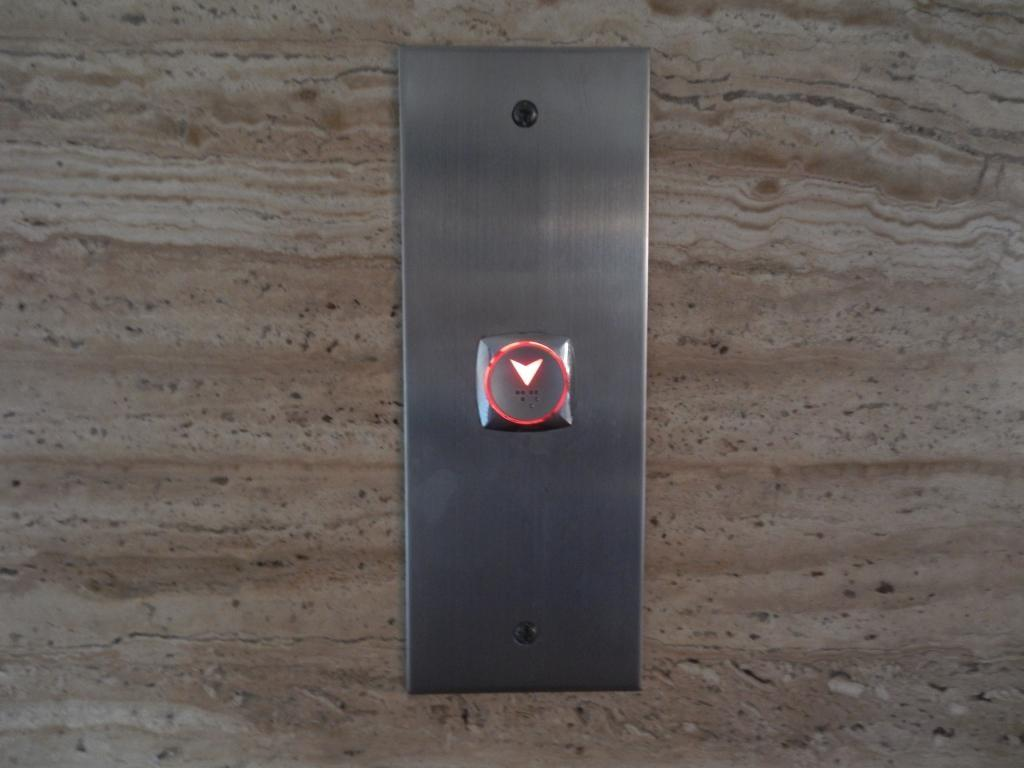down: (476, 333, 577, 433)
